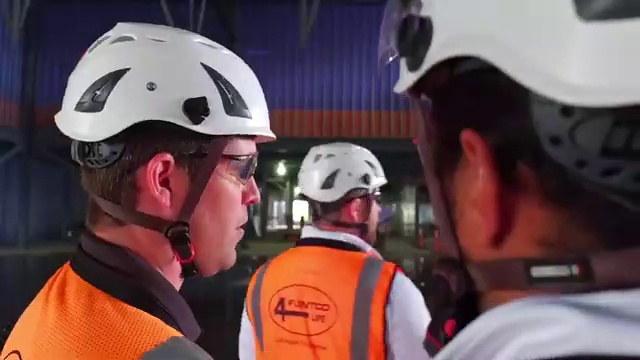helmet: (356, 1, 639, 112), (51, 16, 282, 145), (296, 143, 394, 199)
jacket: (7, 254, 199, 360), (251, 249, 413, 360)
